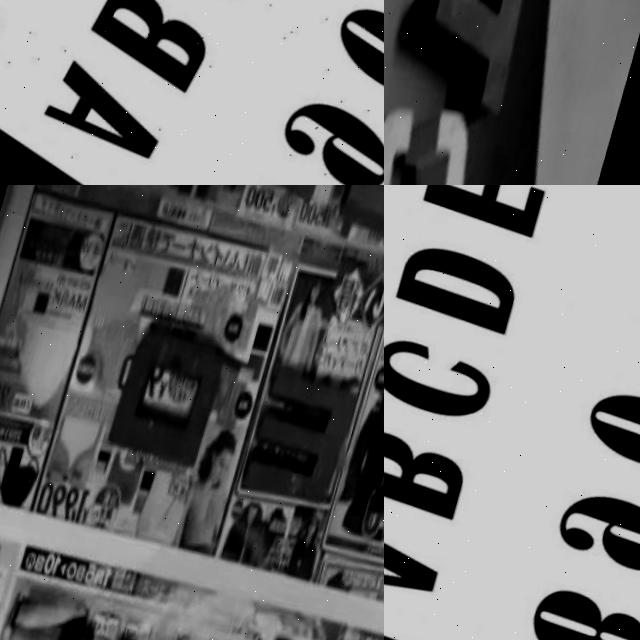0: (304, 0, 384, 134), (571, 365, 640, 493)
8: (521, 570, 640, 640), (219, 159, 384, 185)
9: (253, 67, 384, 185), (542, 471, 640, 590)
C: (384, 80, 498, 185)
D: (105, 324, 235, 476)
M: (243, 368, 363, 508)
T: (384, 0, 549, 145)
